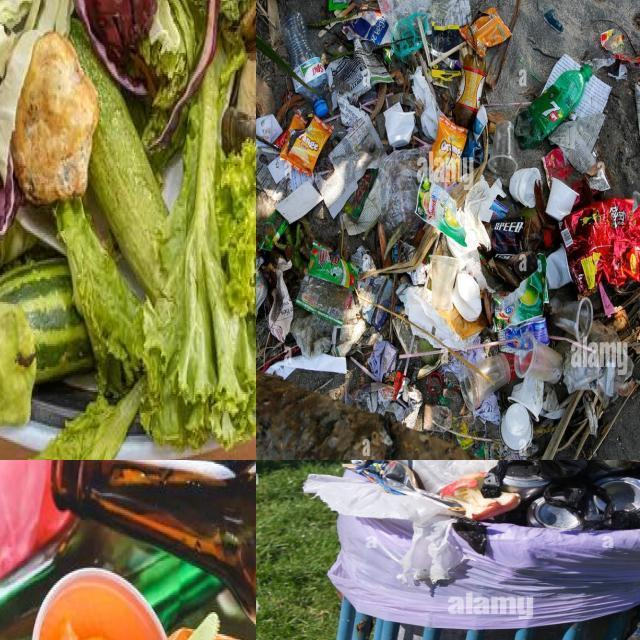Disposable: (460, 354, 510, 411), (514, 332, 563, 383), (550, 298, 594, 343), (488, 121, 518, 182), (500, 402, 533, 451), (431, 254, 458, 310), (509, 168, 541, 207)
Garbage: (256, 0, 640, 451), (0, 460, 256, 640), (355, 460, 640, 555)
Glass_bottle: (52, 460, 256, 623), (0, 521, 222, 640)
Plastic_Bag: (481, 460, 610, 517), (378, 146, 429, 237), (413, 460, 498, 485)
Plastic_bottle: (515, 65, 592, 150), (281, 11, 327, 115), (455, 47, 486, 127)
Plastic_wraper: (561, 198, 640, 293), (295, 242, 359, 326), (327, 38, 392, 105), (494, 254, 549, 331), (416, 179, 466, 247), (281, 112, 333, 176), (460, 7, 511, 57), (343, 170, 378, 218), (377, 0, 432, 30), (260, 209, 287, 250), (350, 16, 388, 45), (490, 200, 509, 219), (392, 372, 404, 400)
can: (526, 498, 582, 529), (500, 466, 550, 499), (595, 476, 640, 510), (588, 460, 640, 476), (584, 495, 607, 520)
contaminated_waste: (52, 460, 256, 623)
